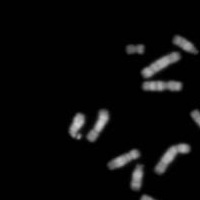chromosome: (140, 51, 183, 78), (155, 144, 190, 176), (106, 149, 141, 171), (87, 108, 109, 142), (140, 78, 183, 91), (174, 34, 200, 55), (68, 113, 85, 139), (190, 106, 200, 147), (140, 193, 187, 200), (132, 163, 144, 190), (126, 41, 145, 56)
